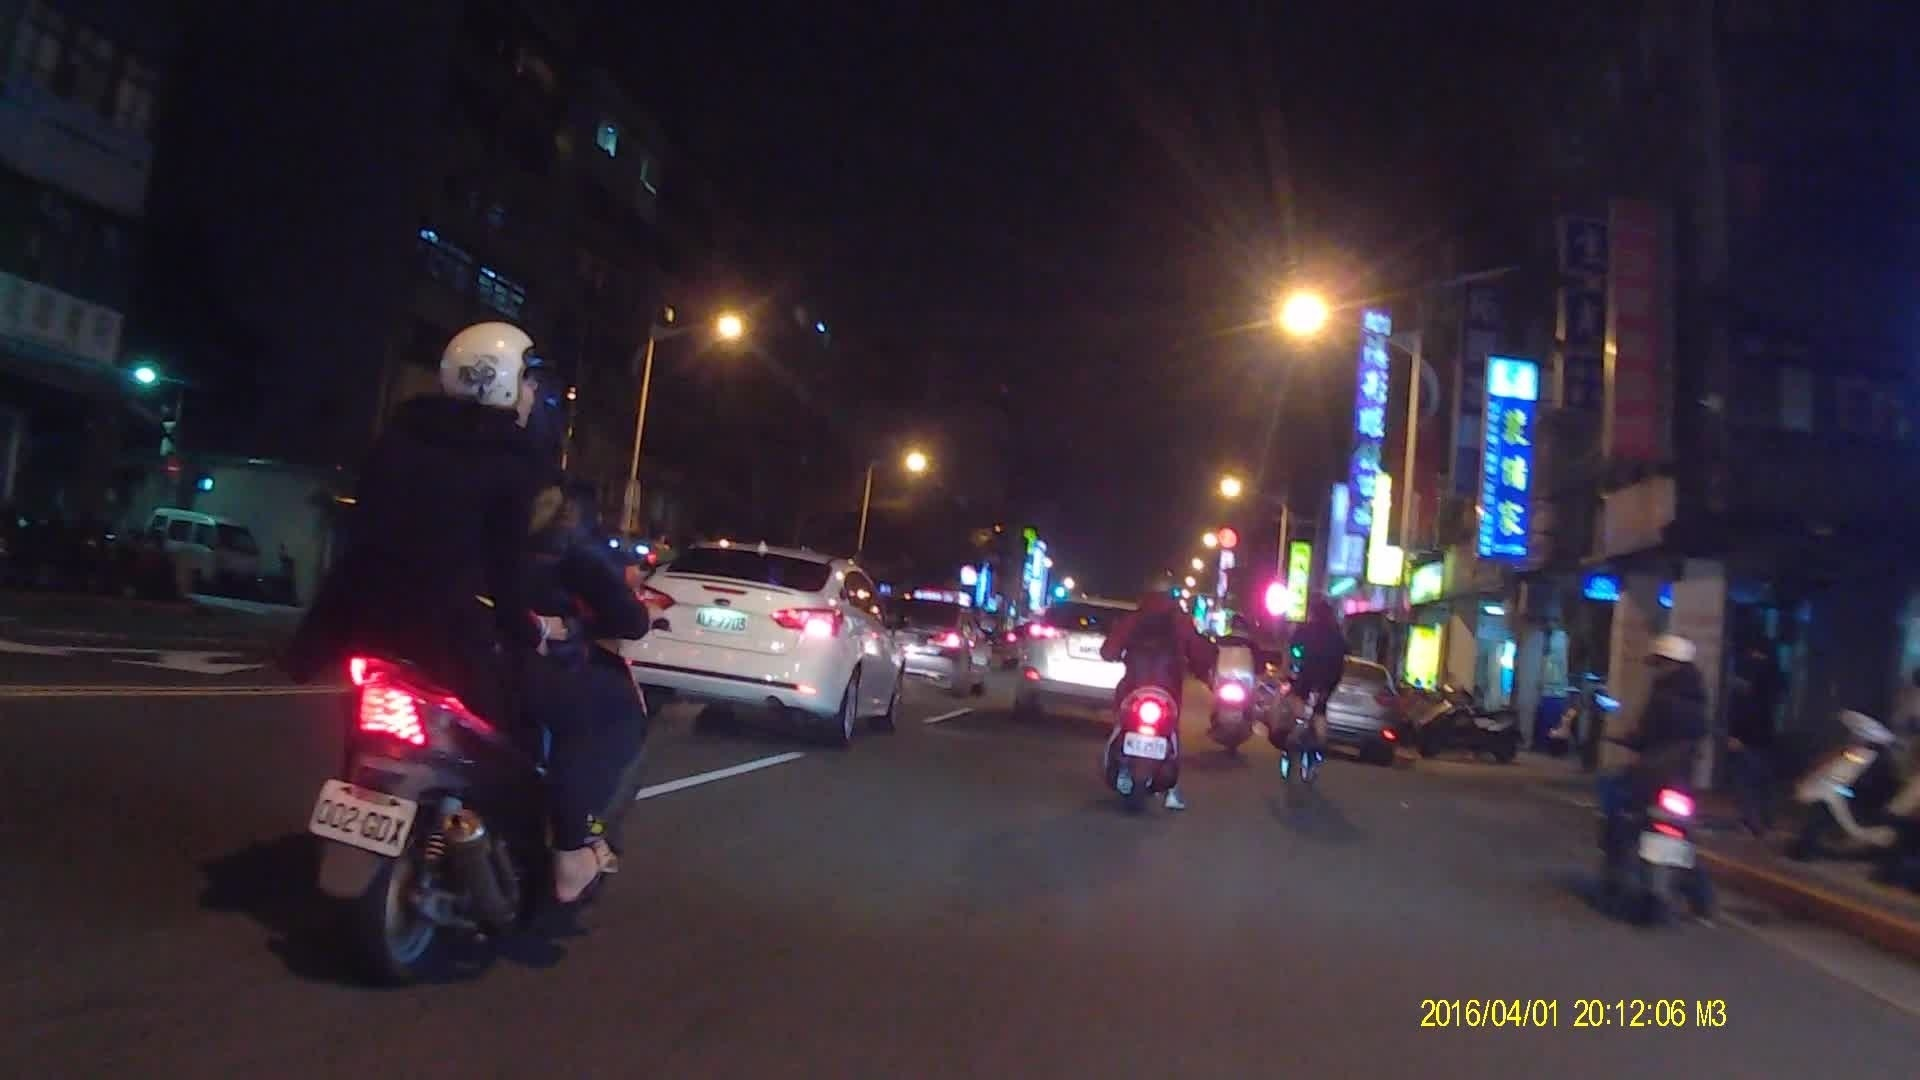License_plate: (309, 778, 413, 859), (1634, 831, 1688, 870), (695, 606, 751, 635), (1121, 731, 1170, 760)
